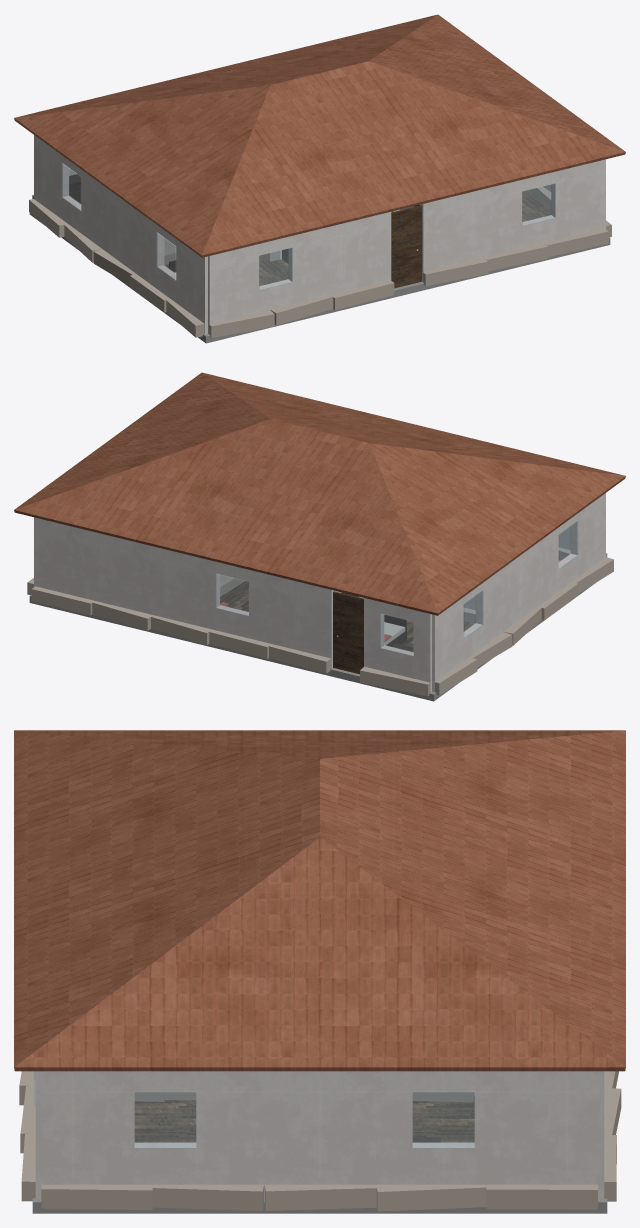
Rendered from house4.glb.
The picture shows the model from 3 angles, top to bottom: view 1: azimuth 30°, elevation 25°; view 2: azimuth 150°, elevation 25°; view 3: azimuth 270°, elevation 25°; orthographic projection. The views are drawn at different scales.
Parts seen in each view (by area): view 1: roof01.001, wall04.001, wall03.001, wall01.001, wall06.001, wall02.001, wall05.001, door01.001, wall22.001, wall20.001, wall18.001, wall21.001 (+18 smaller); view 2: roof01.001, wall16.001, wall14.001, wall13.001, wall12.001, wall17.001, wall15.001, door02.001, wall18.001, wall20.001, wall22.001, wall19.001 (+19 smaller); view 3: roof01.001, wall09.001, wall11.001, wall07.001, wall08.001, wall10.001, house4_podloga, window04.001, window03.001, house4, gruz11.001, gruz09.001 (+9 smaller).
Part boxes in pixels (x1,y1,x2,y2): roof01.001: (14, 14, 625, 257); wall04.001: (420, 189, 484, 282); wall03.001: (330, 212, 391, 294); wall01.001: (208, 241, 270, 333); wall06.001: (541, 159, 604, 242); wall02.001: (267, 226, 330, 309); wall05.001: (484, 174, 544, 257); door01.001: (391, 205, 421, 288); wall22.001: (171, 235, 207, 334); wall20.001: (102, 185, 136, 273); wall18.001: (34, 135, 73, 223); wall21.001: (136, 210, 176, 298); roof01.001: (14, 372, 625, 615); wall16.001: (271, 575, 335, 668); wall14.001: (153, 546, 213, 629); wall13.001: (94, 532, 153, 614); wall12.001: (35, 517, 94, 600); wall17.001: (364, 598, 431, 692); wall15.001: (212, 561, 271, 643); door02.001: (333, 591, 363, 674); wall18.001: (432, 593, 469, 692); wall20.001: (503, 543, 537, 631); wall22.001: (566, 493, 605, 581); wall19.001: (463, 568, 503, 656); roof01.001: (14, 730, 625, 1071); wall09.001: (264, 1071, 376, 1200); wall11.001: (486, 1071, 598, 1200); wall07.001: (41, 1071, 153, 1186); wall08.001: (152, 1071, 264, 1200); wall10.001: (375, 1071, 487, 1184); house4_podloga: (134, 1096, 474, 1142); window04.001: (413, 1092, 474, 1148); window03.001: (135, 1092, 195, 1148); house4: (32, 1198, 607, 1213); gruz11.001: (486, 1184, 597, 1209); gruz09.001: (264, 1184, 376, 1210).
Bounding box in the file's own units: 12.9 × 4.55 × 9.9.
11 materials, 5 textured.
